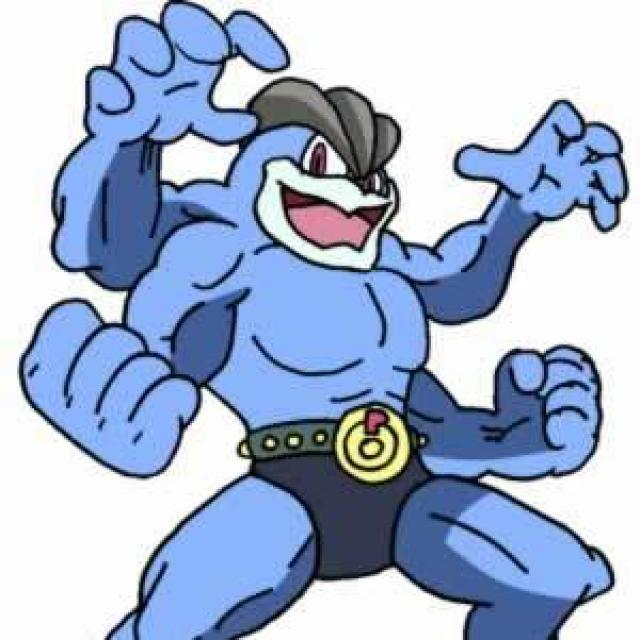Machamp: (37, 9, 581, 602)
